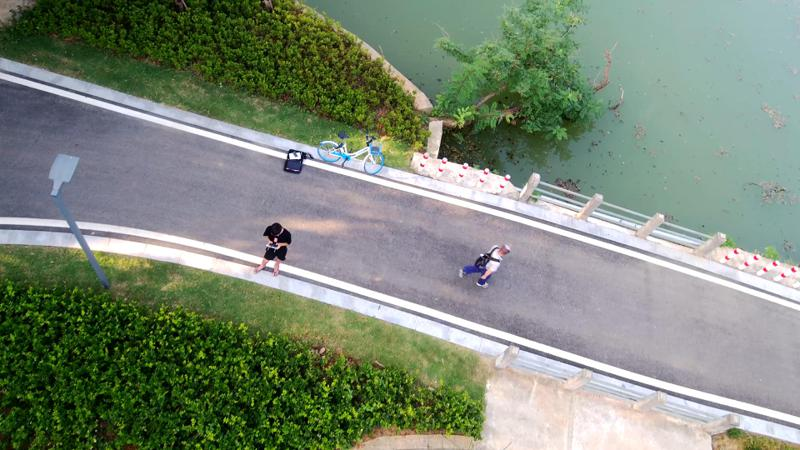passerby: (456, 238, 511, 287), (252, 220, 293, 279)
